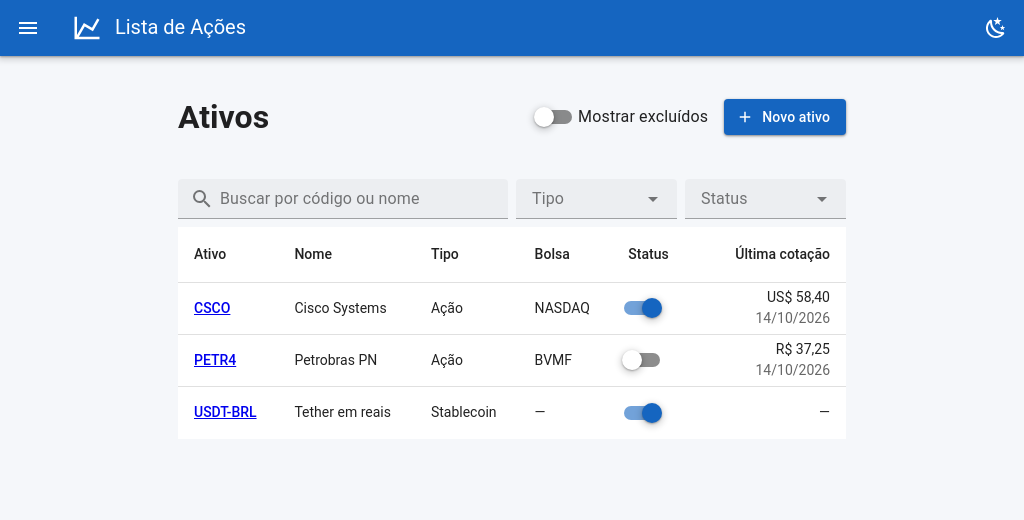
lista de ativos (/ativos) › o switch volta ao valor anterior e mostra o erro se a API falhar
This screenshot has width=1024, height=520.
What coordinates should you click on to do the following:
click the checkbox named "Monitorar PETR4"
I would click on:
 (632, 360)
Its box is [616, 344, 649, 377].
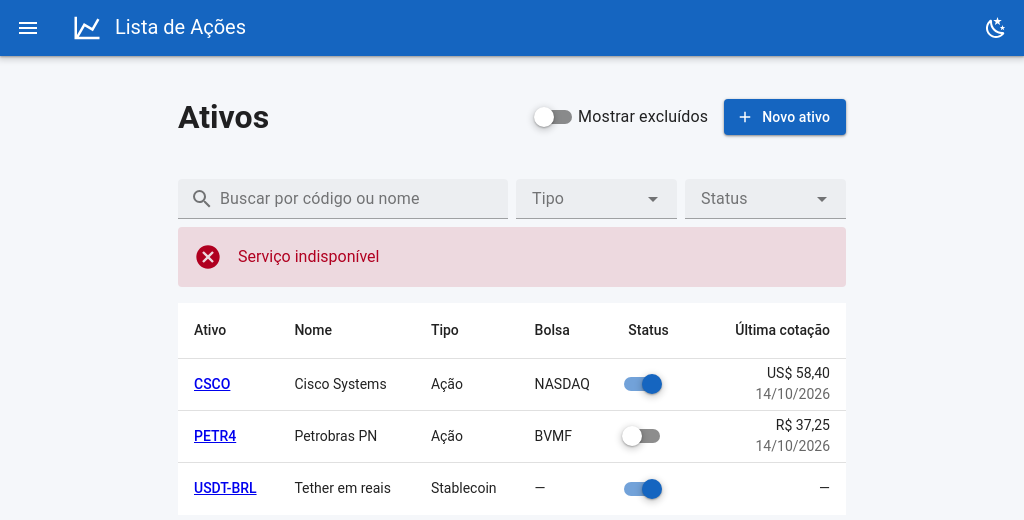
Expected: the element with test id "erro-ativos" reads "Serviço indisponível", [238, 247, 380, 266]
